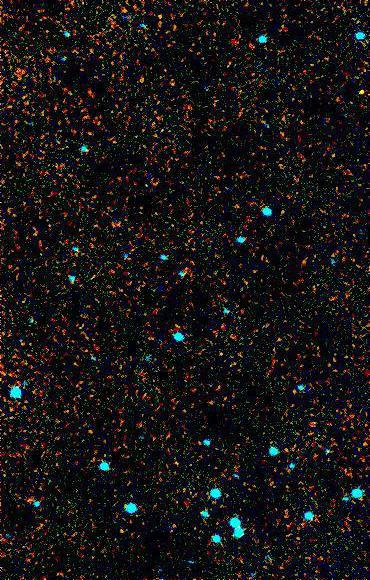star: (344, 77, 370, 107)
